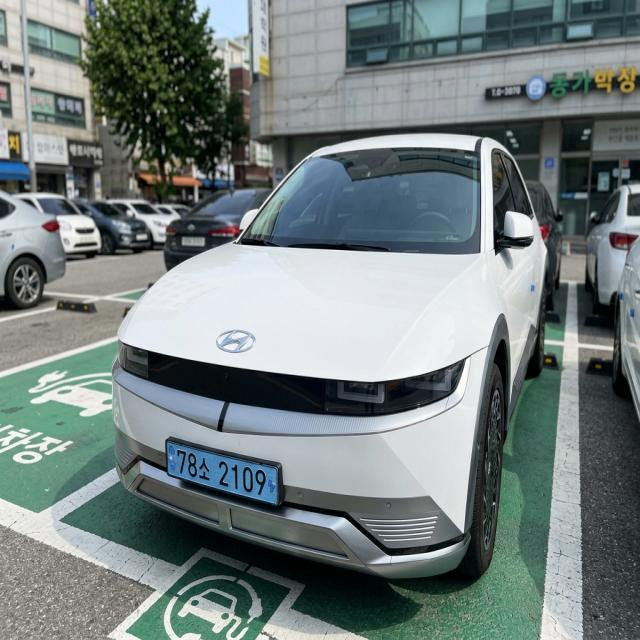car: (153, 429, 305, 519)
carev: (264, 463, 281, 508), (164, 438, 178, 484)
